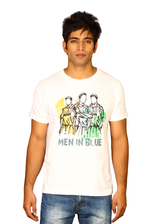clothoes: (29, 66, 126, 196)
